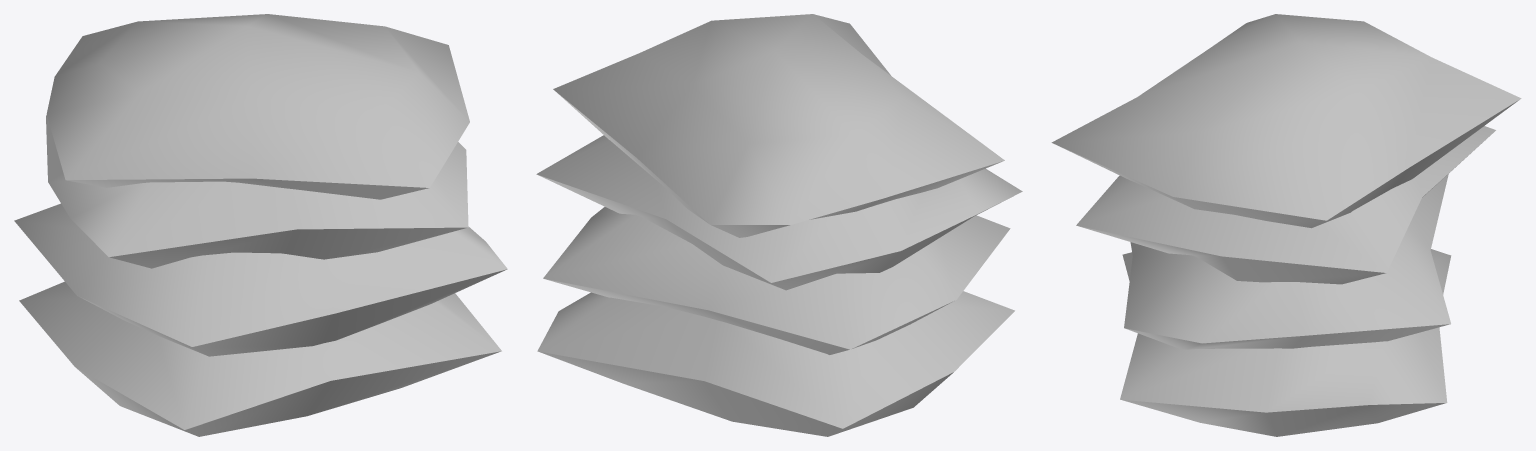
Rendered from Pfb_BagsTile.fbx.
3 renders of one model, left to right at view 1: azimuth 30°, elevation 25°; view 2: azimuth 150°, elevation 25°; view 3: azimuth 270°, elevation 25°, orthographic. The views are drawn at different scales.
Visible parts, largest first — view 1: Mat_Bags_01_1 Character; view 2: Mat_Bags_01_1 Character; view 3: Mat_Bags_01_1 Character.
Part boxes in pixels (left/top/right/bottom): Mat_Bags_01_1 Character: left=14, top=14, right=507, bottom=436; Mat_Bags_01_1 Character: left=536, top=14, right=1022, bottom=436; Mat_Bags_01_1 Character: left=1051, top=14, right=1521, bottom=436.
Bounding box in the file's own units: 1.3 × 1.03 × 1.3.
1 material, 1 textured.
